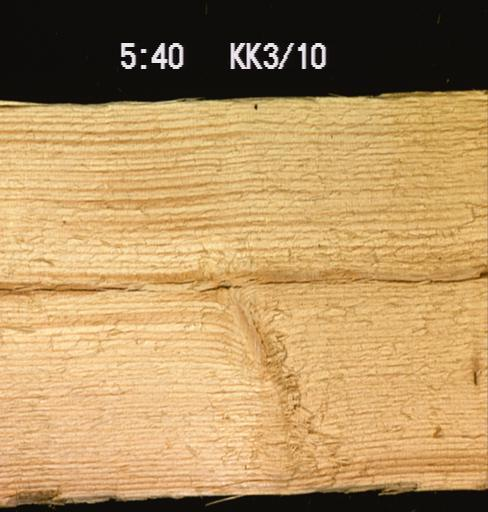small_knot: (471, 369, 478, 386)
split: (0, 276, 143, 292), (260, 275, 421, 286), (429, 270, 487, 284), (147, 274, 196, 286), (198, 282, 244, 292)
wave: (316, 479, 416, 495)
